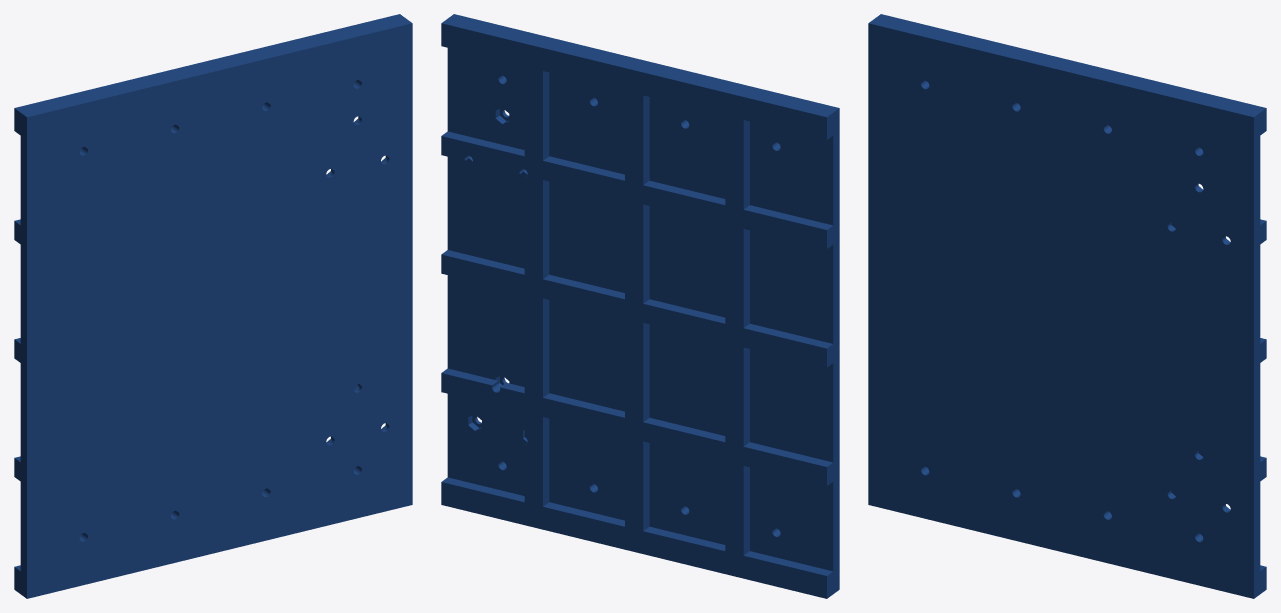
Rendered from .left_shelf.step.glb.
3 renders of one model, left to right at view 1: azimuth 30°, elevation 25°; view 2: azimuth 150°, elevation 25°; view 3: azimuth 330°, elevation 25°, orthographic.
Parts seen in each view (by area): view 1: o1; view 2: o1; view 3: o1.
Boxes of the visible parts, x1=… form: o1: x1=14, y1=14, x2=412, y2=598; o1: x1=441, y1=14, x2=839, y2=598; o1: x1=868, y1=14, x2=1266, y2=598.
Bounding box in the file's own units: 0.2111 × 0.252 × 0.012.
